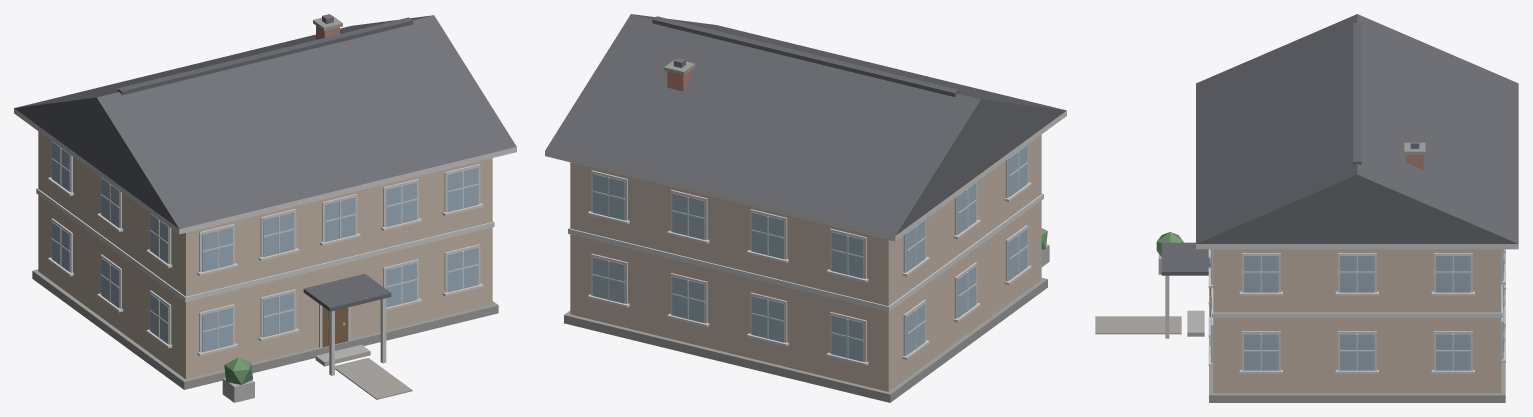
File: Villa_15.glb
3 views of the same model, side by side, from view 1: azimuth 30°, elevation 25°; view 2: azimuth 150°, elevation 25°; view 3: azimuth 270°, elevation 25° (orthographic). The views are drawn at different scales.
Parts seen in each view (by area): view 1: Villa_15; view 2: Villa_15; view 3: Villa_15.
Part boxes in pixels (x1,y1,x2,y2): Villa_15: [14, 14, 516, 402]; Villa_15: [545, 14, 1066, 402]; Villa_15: [1095, 14, 1518, 402].
Size of the model in its own units: 13.2 by 9.03 by 14.7.
